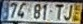1: (42, 3, 47, 20)
4: (16, 2, 24, 19)
7: (9, 2, 17, 18)
8: (32, 2, 41, 19)
J: (63, 4, 73, 21)
T: (54, 3, 64, 21)
